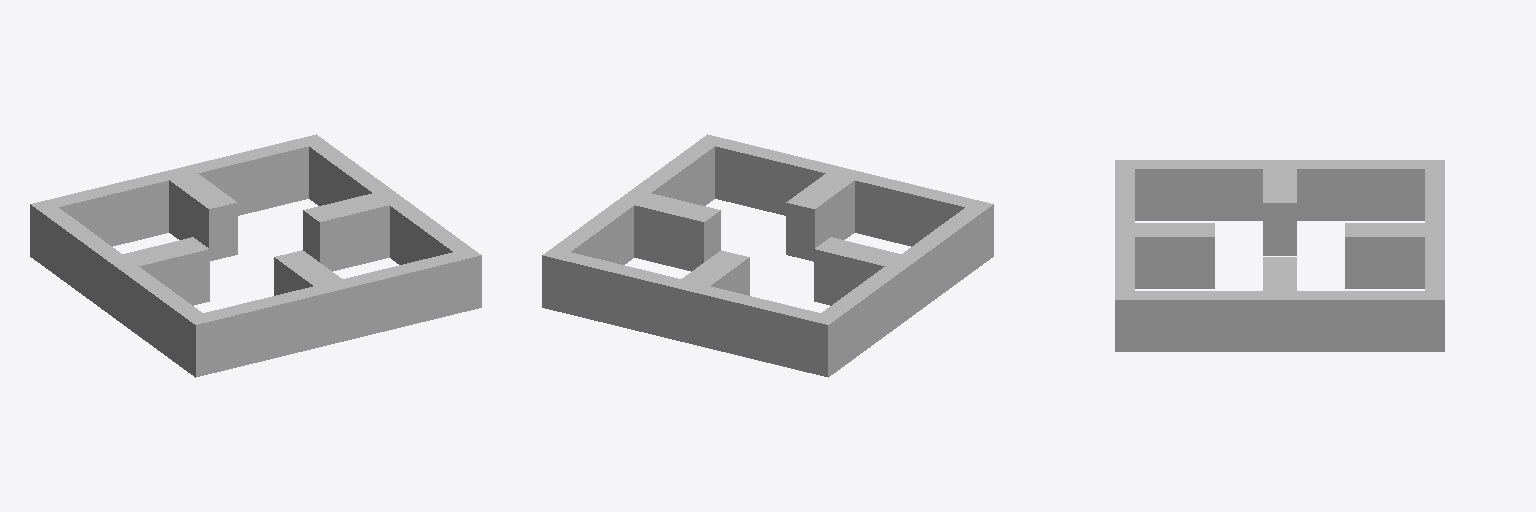
The model's file is Level1.obj.
3 renders of one model, left to right at view 1: azimuth 30°, elevation 25°; view 2: azimuth 150°, elevation 25°; view 3: azimuth 270°, elevation 25°, orthographic.
Visible parts, largest first — view 1: Rectangle01, Rectangle05, Rectangle03, Rectangle06, Rectangle04; view 2: Rectangle01, Rectangle05, Rectangle04, Rectangle06, Rectangle03; view 3: Rectangle01, Rectangle03, Rectangle04, Rectangle06, Rectangle05.
Part boxes in pixels (x1,y1,x2,y2): Rectangle01: (30, 134, 481, 377); Rectangle05: (303, 193, 389, 271); Rectangle03: (169, 173, 237, 260); Rectangle06: (123, 237, 209, 305); Rectangle04: (274, 250, 341, 295); Rectangle01: (542, 134, 993, 377); Rectangle05: (633, 193, 720, 271); Rectangle04: (786, 173, 854, 261); Rectangle06: (814, 237, 900, 305); Rectangle03: (682, 250, 749, 295); Rectangle01: (1115, 160, 1444, 351); Rectangle03: (1345, 223, 1427, 288); Rectangle04: (1132, 223, 1214, 288); Rectangle06: (1263, 168, 1296, 255); Rectangle05: (1263, 257, 1296, 291).
Bounding box in the file's own units: 4 × 0.7 × 4.